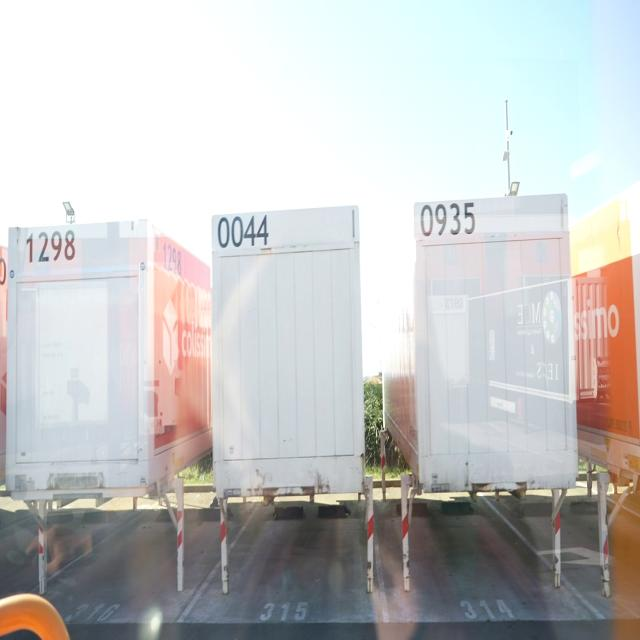Code: (215, 205, 273, 256), (416, 196, 478, 243), (21, 226, 79, 270), (158, 232, 186, 284)
